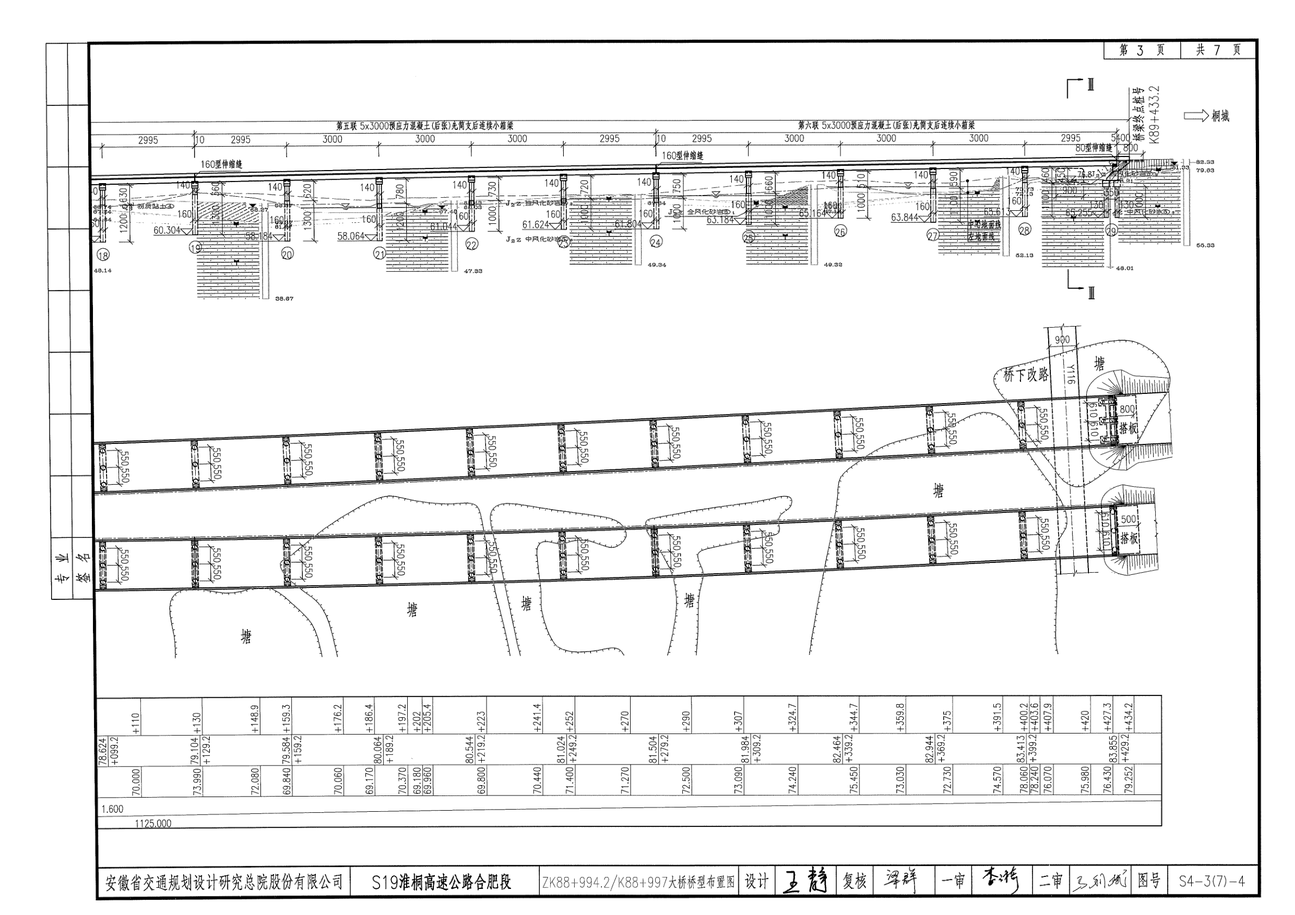A: (83, 62, 1231, 313)
